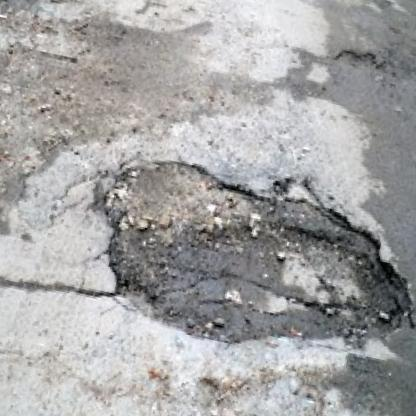pothole: (80, 139, 416, 379), (337, 44, 380, 71)
